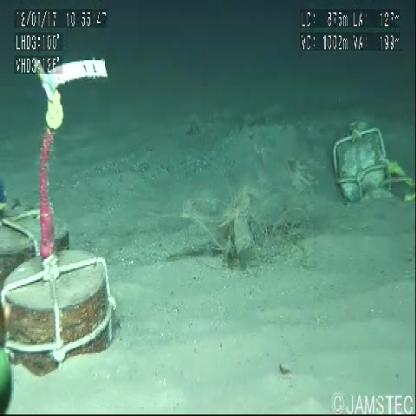Rác: (152, 152, 334, 276)
